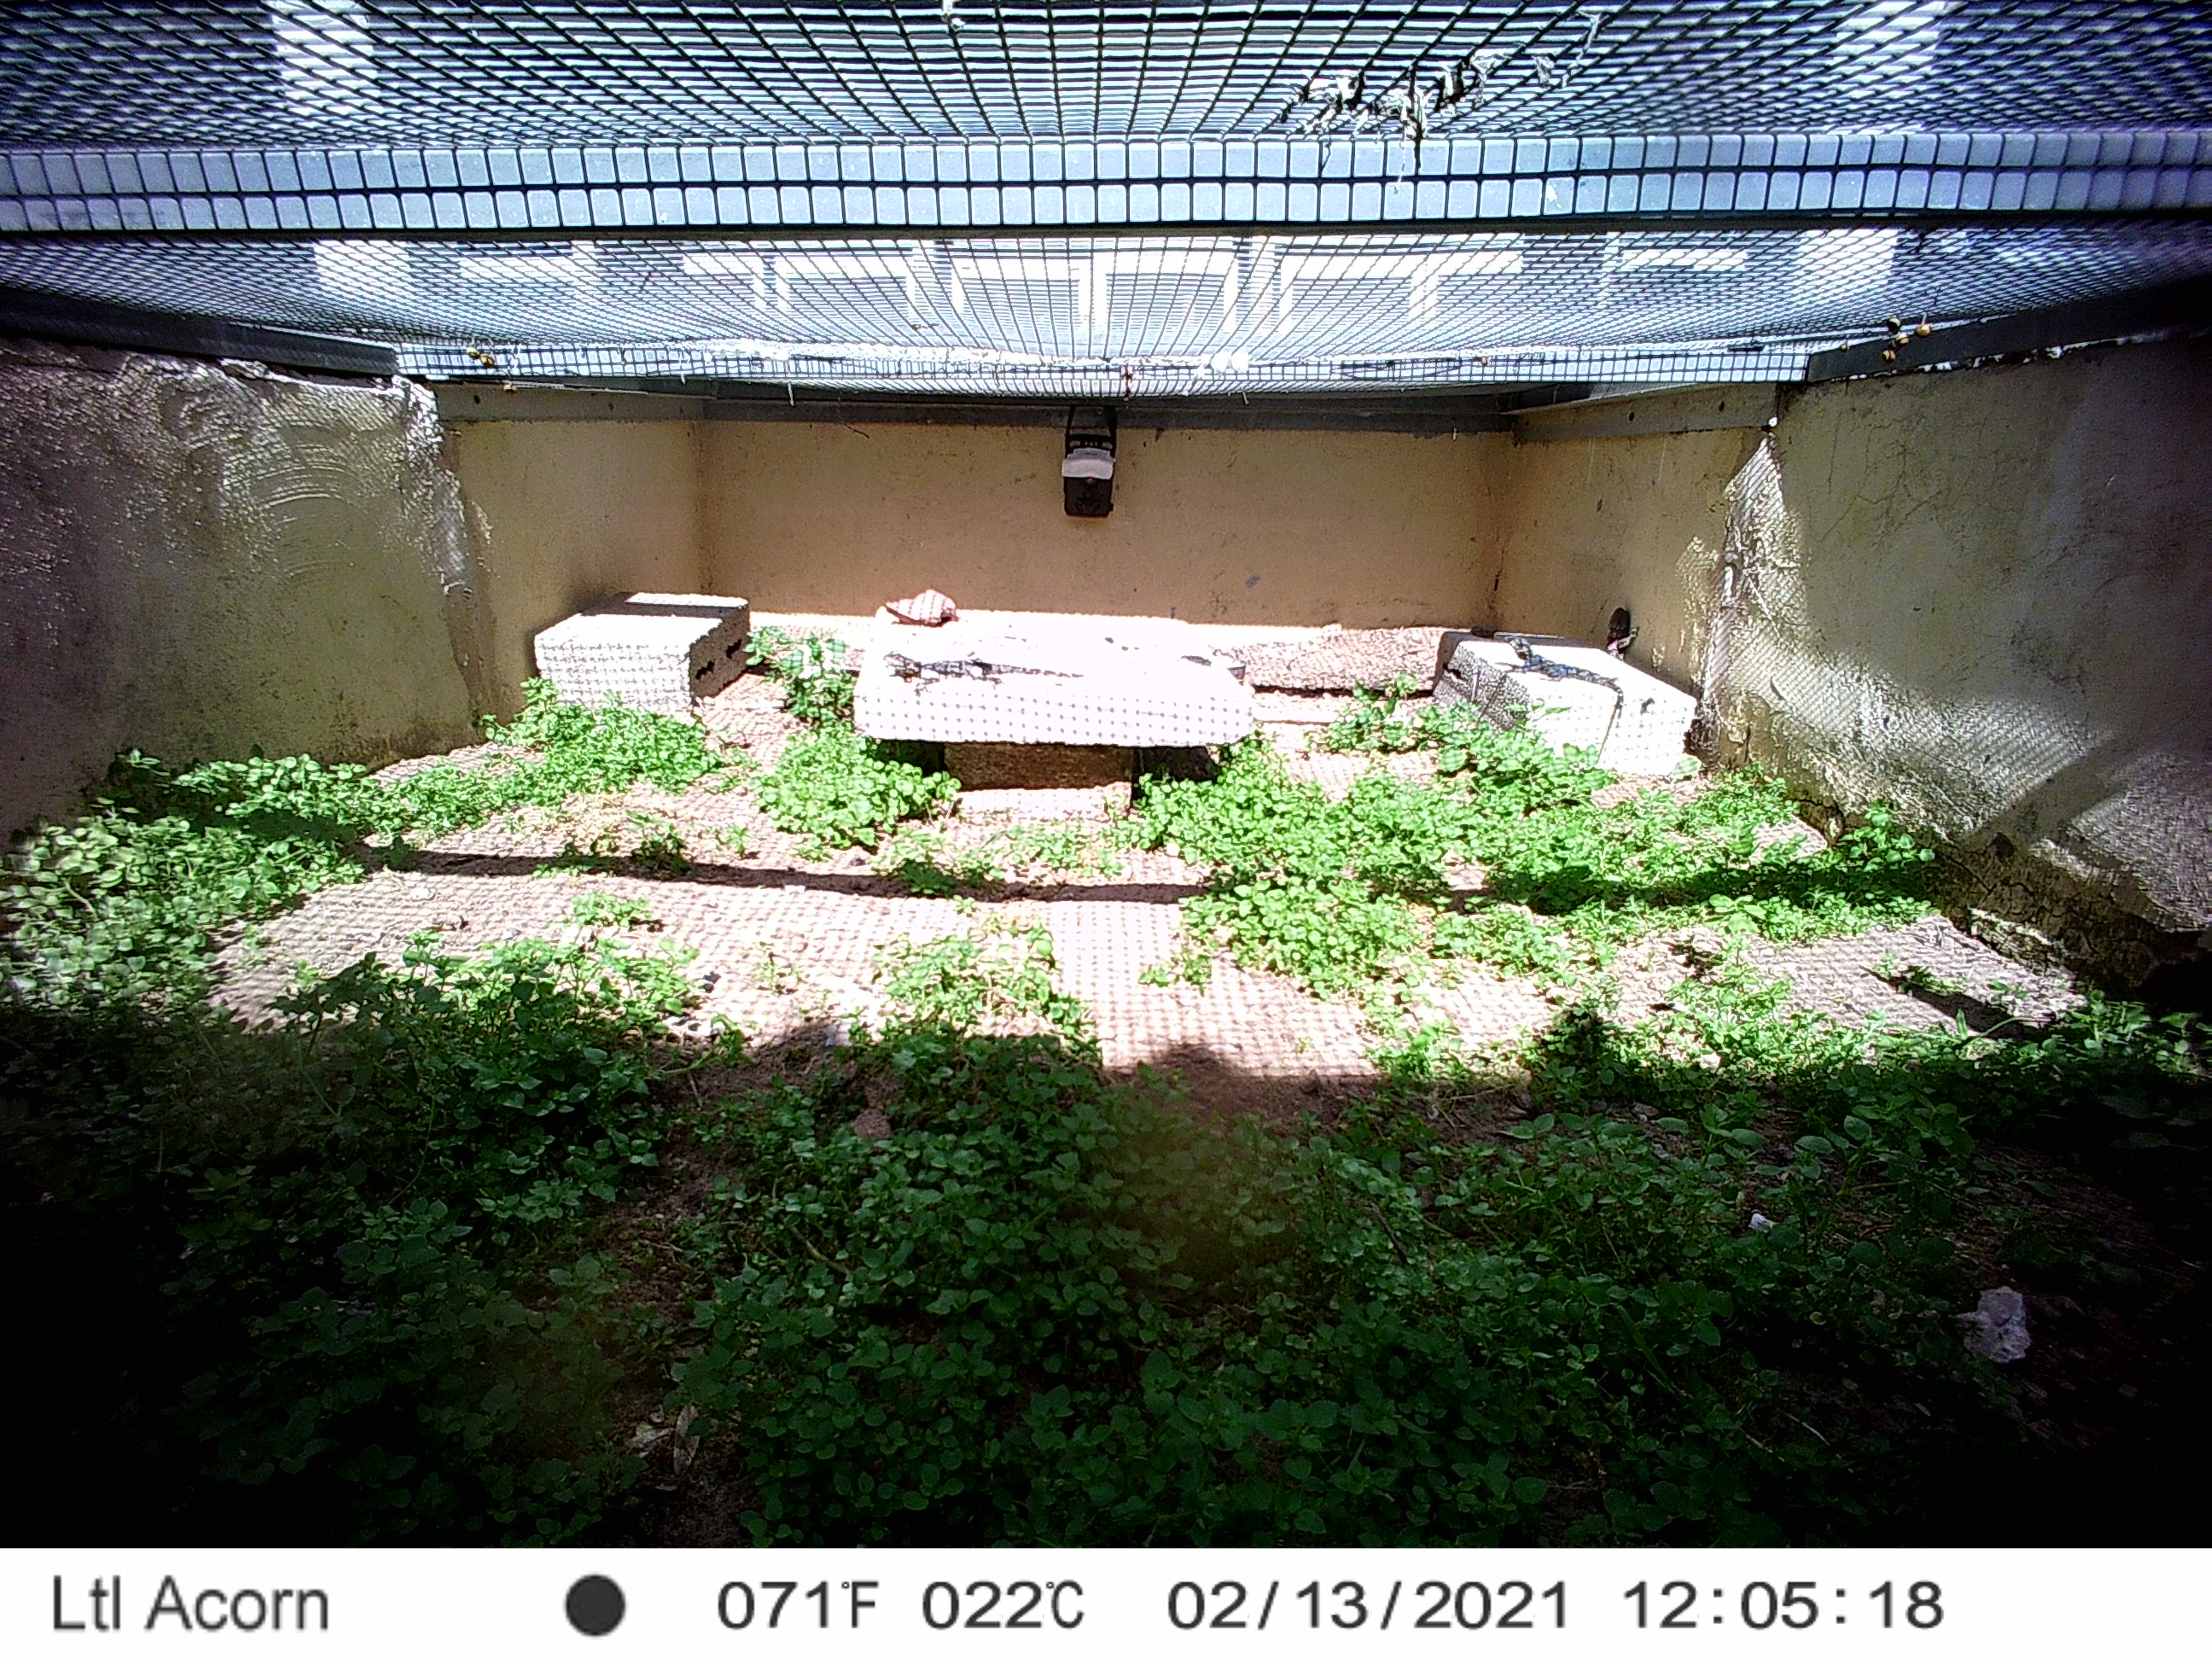lizard: (880, 645, 1085, 699), (1508, 636, 1618, 716), (1597, 605, 1639, 655)
